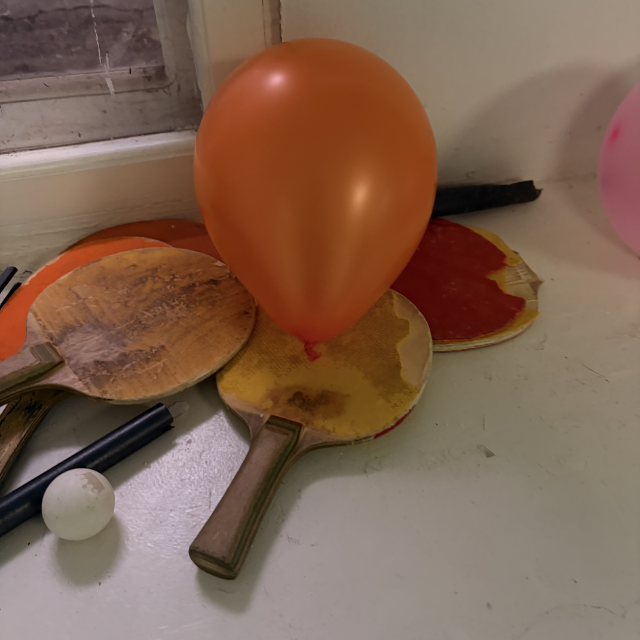balloon: (192, 37, 438, 364)
